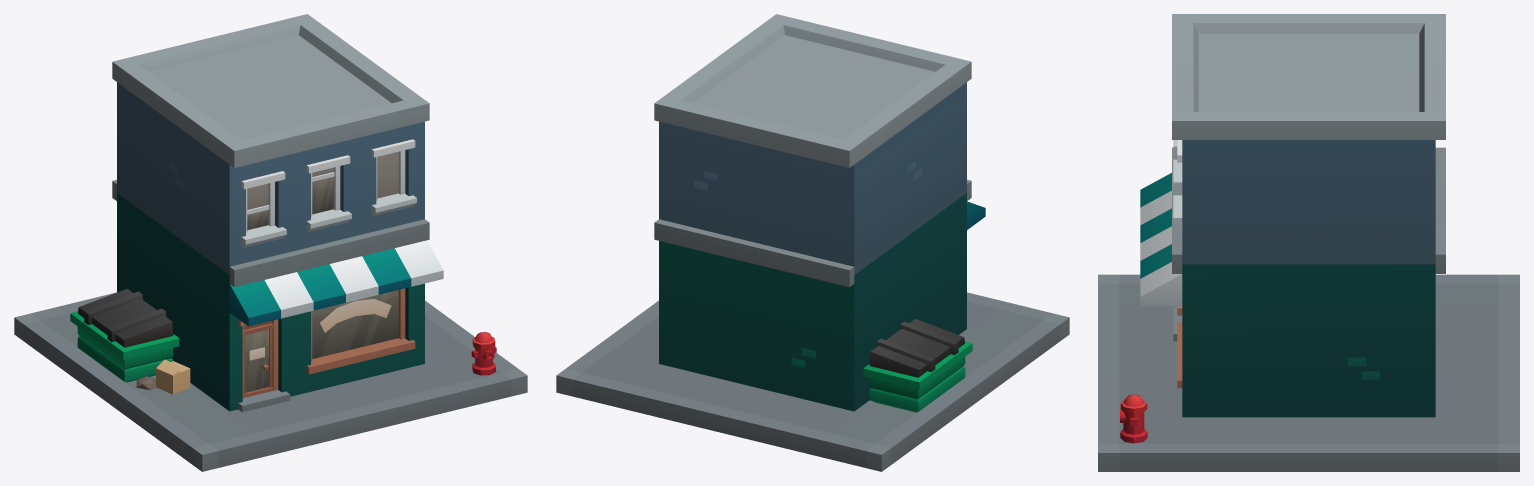
File: diner.glb
3 renders of one model, left to right at view 1: azimuth 30°, elevation 25°; view 2: azimuth 150°, elevation 25°; view 3: azimuth 270°, elevation 25°, orthographic. The views are drawn at different scales.
Parts seen in each view (by area): view 1: building_A; view 2: building_A; view 3: building_A.
Boxes of the visible parts, left/top/right/bottom form: building_A: left=14, top=14, right=527, bottom=471; building_A: left=556, top=14, right=1069, bottom=471; building_A: left=1098, top=14, right=1519, bottom=471.
Size of the model in its own units: 2 by 1.65 by 2.
1 material, 1 textured.
